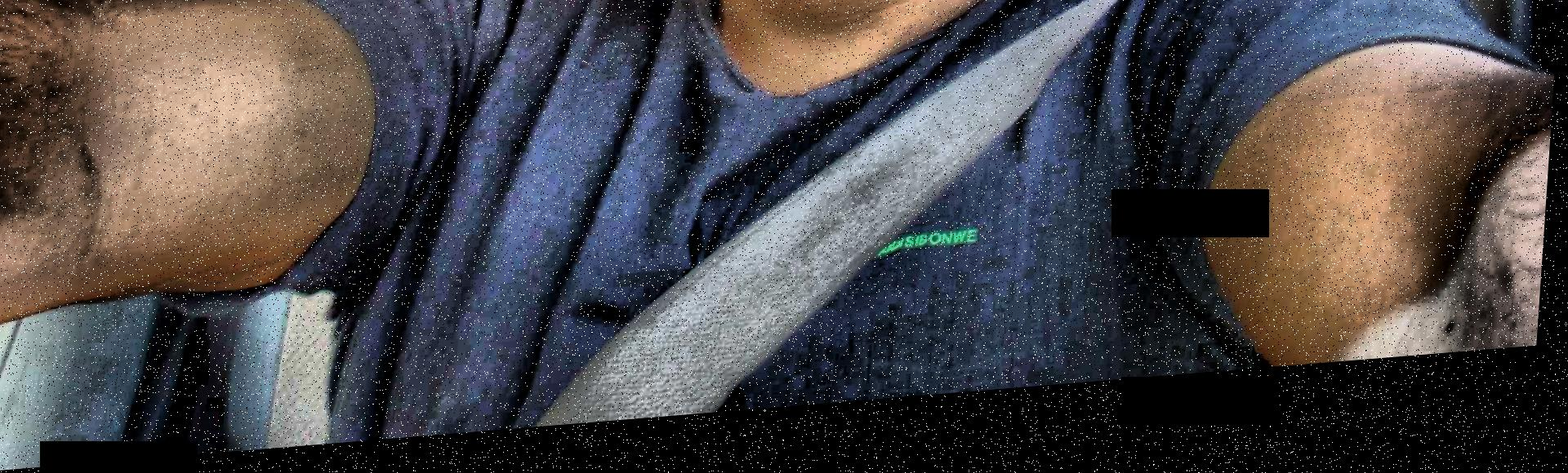seatbelt: (593, 0, 1194, 433)
